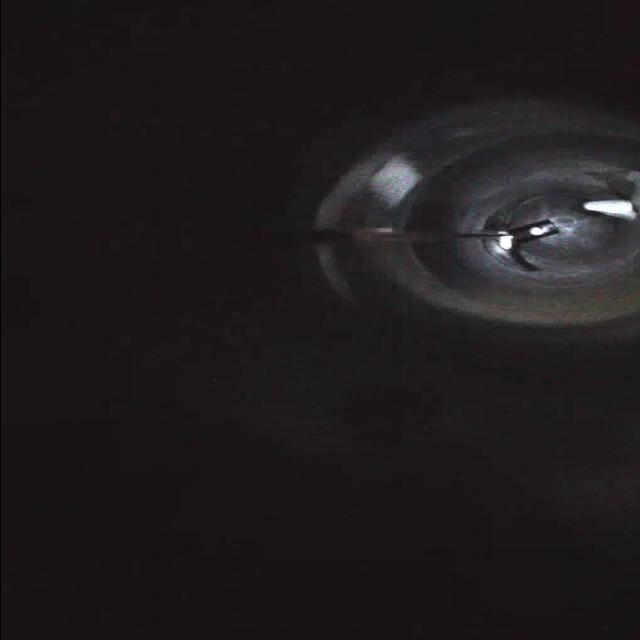impurity: (575, 194, 640, 224)
